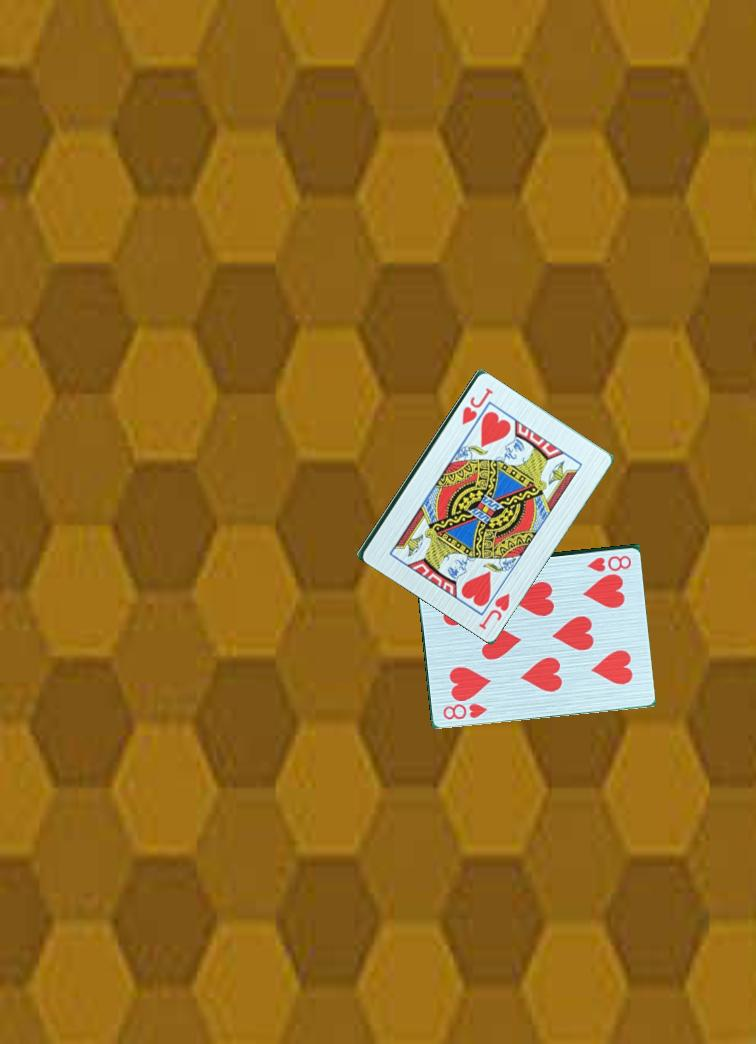8h: (579, 552, 634, 574), (439, 700, 490, 723)
jh: (475, 589, 513, 632), (458, 383, 494, 428)
